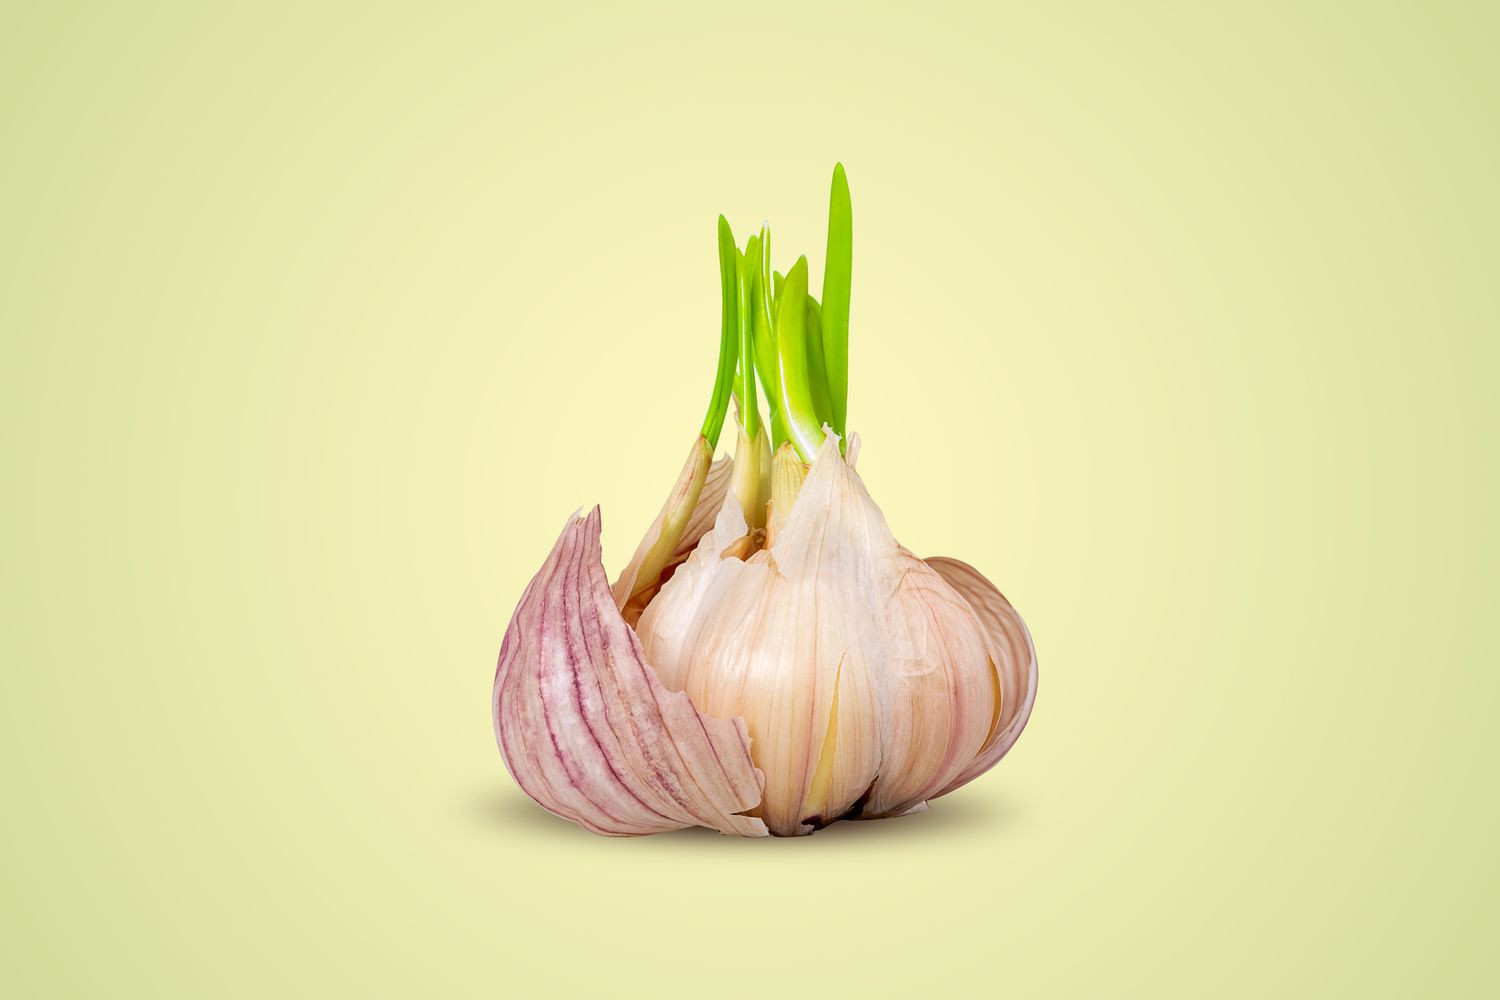garlic: (475, 157, 1052, 843)
